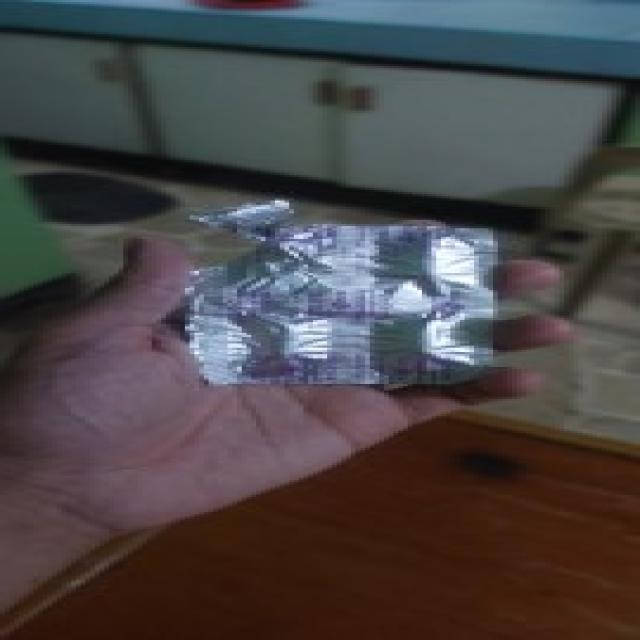Cacat: (186, 197, 500, 383)
Kemasan: (194, 196, 354, 277)
